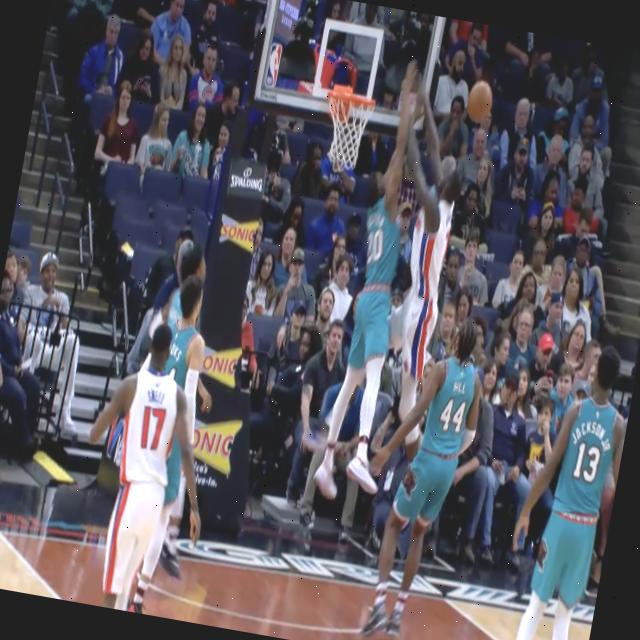foul: (314, 21, 490, 520)
no foul: (355, 302, 495, 640), (75, 265, 208, 615)
